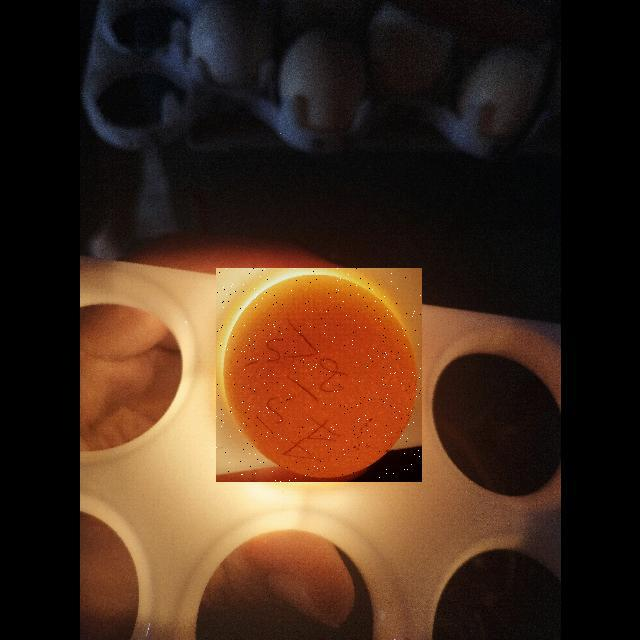Infertile: (216, 268, 422, 482)
